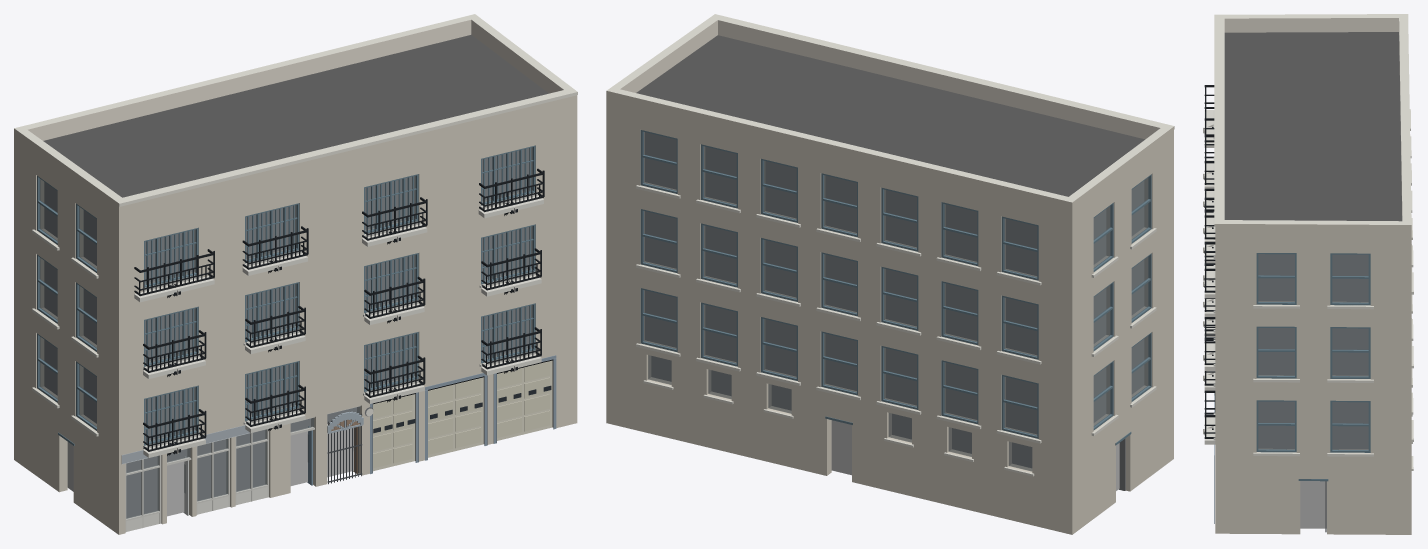
The model's file is exterior.glb.
The picture shows the model from 3 angles, left to right: view 1: azimuth 30°, elevation 25°; view 2: azimuth 150°, elevation 25°; view 3: azimuth 270°, elevation 25°; orthographic projection. The views are drawn at different scales.
Visible parts, largest first — view 1: shell, roof, glazing, shadow-proxy, frames, balcony-canopy, storefront, relief-0, trim; view 2: shell, glazing, shadow-proxy, roof, frames, trim; view 3: shell, roof, shadow-proxy, glazing, balcony-canopy, frames, trim, relief-0.
Boxes of the visible parts, bbox=[...] form: shell: bbox=[14, 14, 577, 534]; roof: bbox=[43, 34, 548, 197]; glazing: bbox=[40, 147, 532, 518]; shadow-proxy: bbox=[44, 148, 528, 517]; frames: bbox=[37, 145, 535, 445]; balcony-canopy: bbox=[134, 168, 544, 457]; storefront: bbox=[58, 359, 553, 531]; relief-0: bbox=[119, 91, 577, 474]; trim: bbox=[32, 194, 538, 449]; shell: bbox=[606, 14, 1173, 534]; glazing: bbox=[644, 132, 1148, 471]; shadow-proxy: bbox=[645, 132, 1143, 490]; roof: bbox=[636, 35, 1144, 196]; frames: bbox=[640, 130, 1151, 438]; trim: bbox=[636, 185, 1156, 476]; shell: bbox=[1215, 14, 1411, 534]; roof: bbox=[1224, 32, 1402, 221]; shadow-proxy: bbox=[1258, 254, 1368, 528]; glazing: bbox=[1258, 254, 1368, 449]; balcony-canopy: bbox=[1203, 85, 1215, 444]; frames: bbox=[1256, 253, 1370, 452]; trim: bbox=[1213, 109, 1413, 470]; relief-0: bbox=[1214, 14, 1215, 523].
Bounding box in the file's own units: 18.77 × 12.75 × 7.86.
